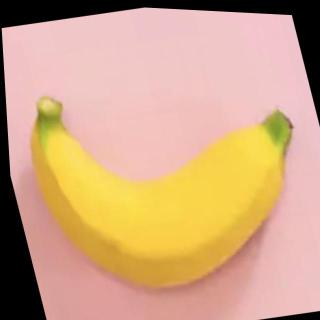banana: (10, 47, 320, 316)
